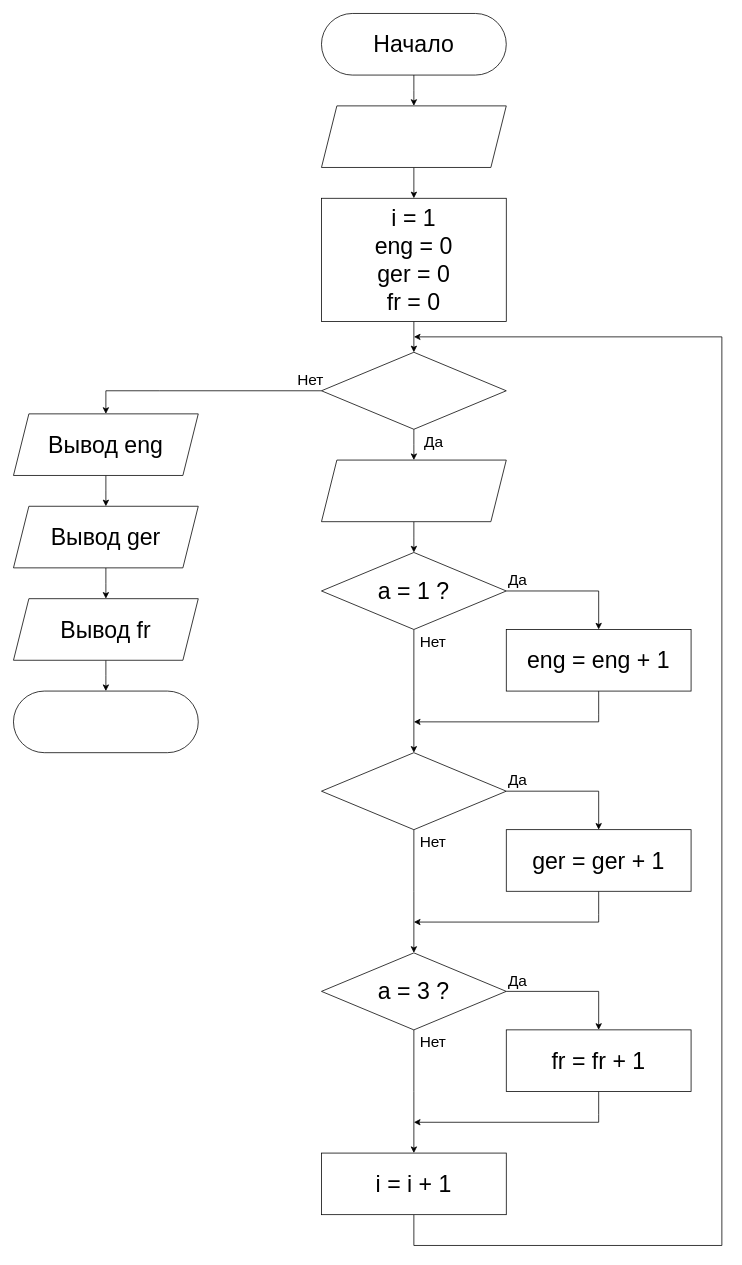
Some shapes in this 742 by 1265 pixel diagram are drawn without their labels. Here are the shapes that lost their labels. From the top down, the centre of each, then its label:
At (x=413, y=136): "Ввод n".
At (x=413, y=390): "i <= n ?".
At (x=413, y=490): "Ввод a".
At (x=105, y=721): "Конец".
At (x=413, y=791): "a = 2 ?".
